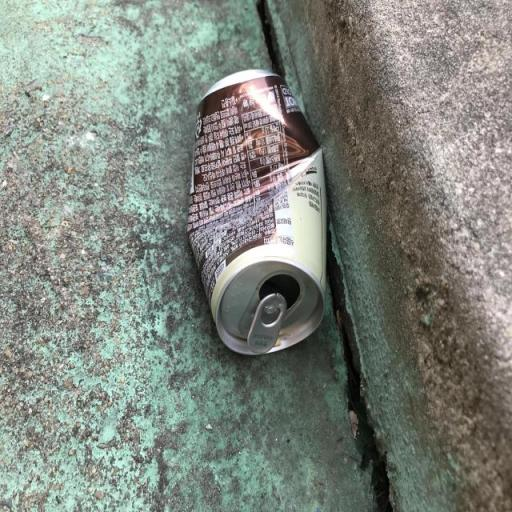metal: (138, 28, 404, 398)
